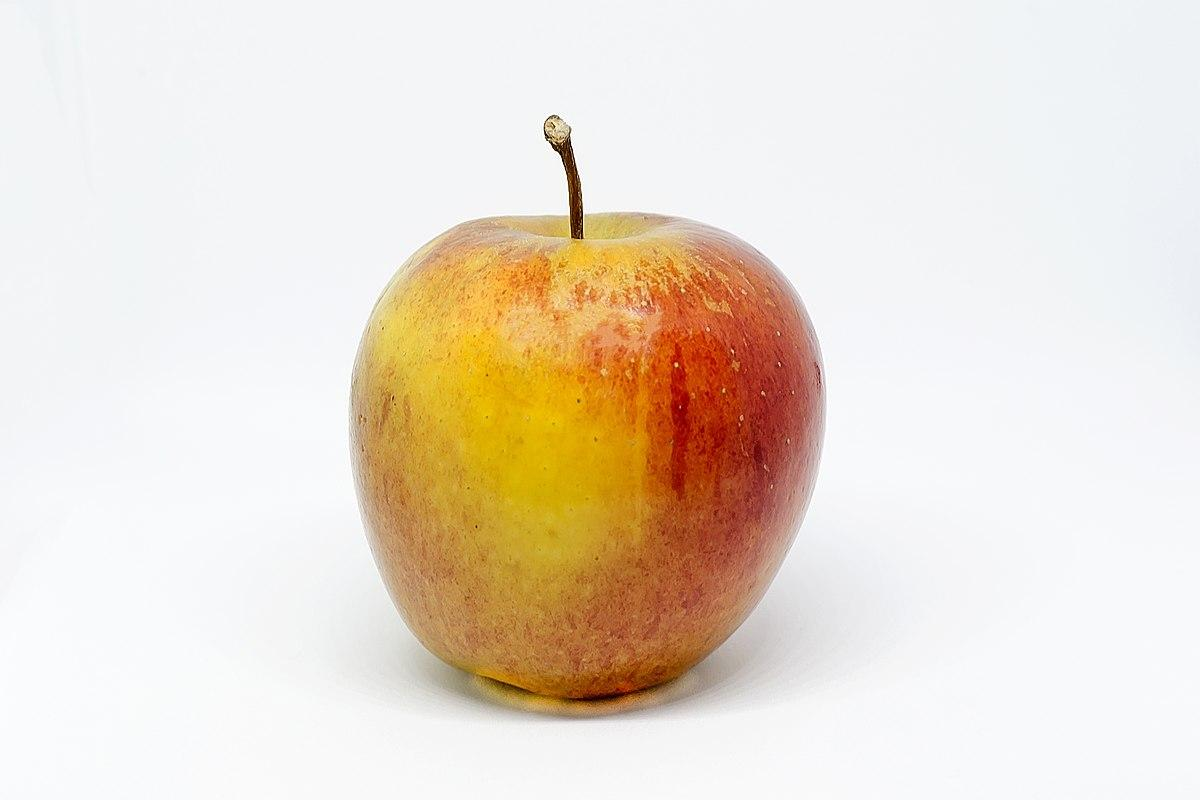Apple Fresh: (326, 118, 840, 734)
